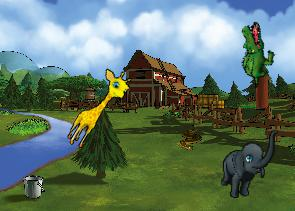crocodile: (225, 19, 285, 88)
elephant: (220, 128, 278, 199)
giraffe: (63, 63, 135, 156)
